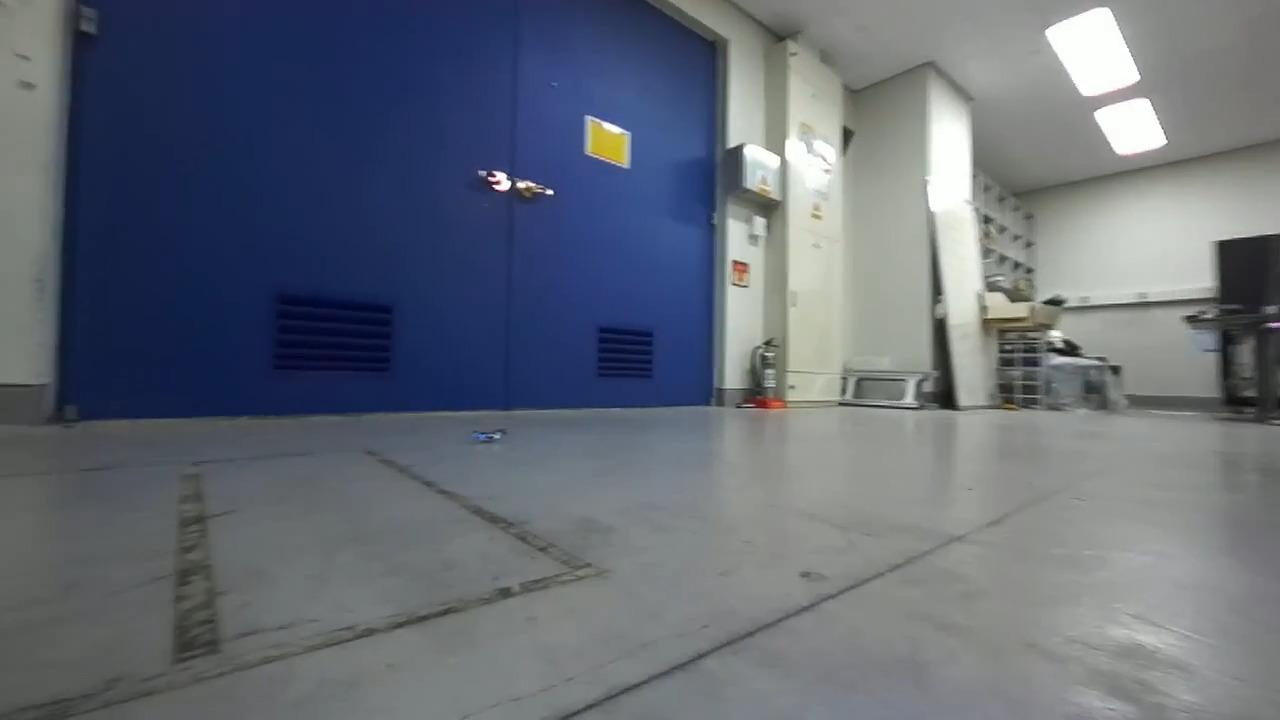crazyflie: (460, 421, 515, 450)
